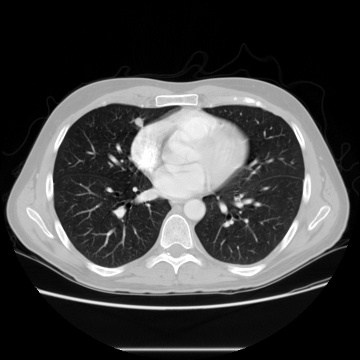PN: (133, 116, 143, 126)
